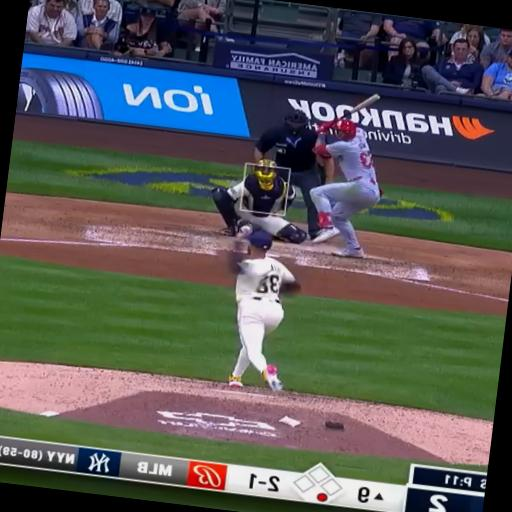bat: (350, 94, 379, 114)
